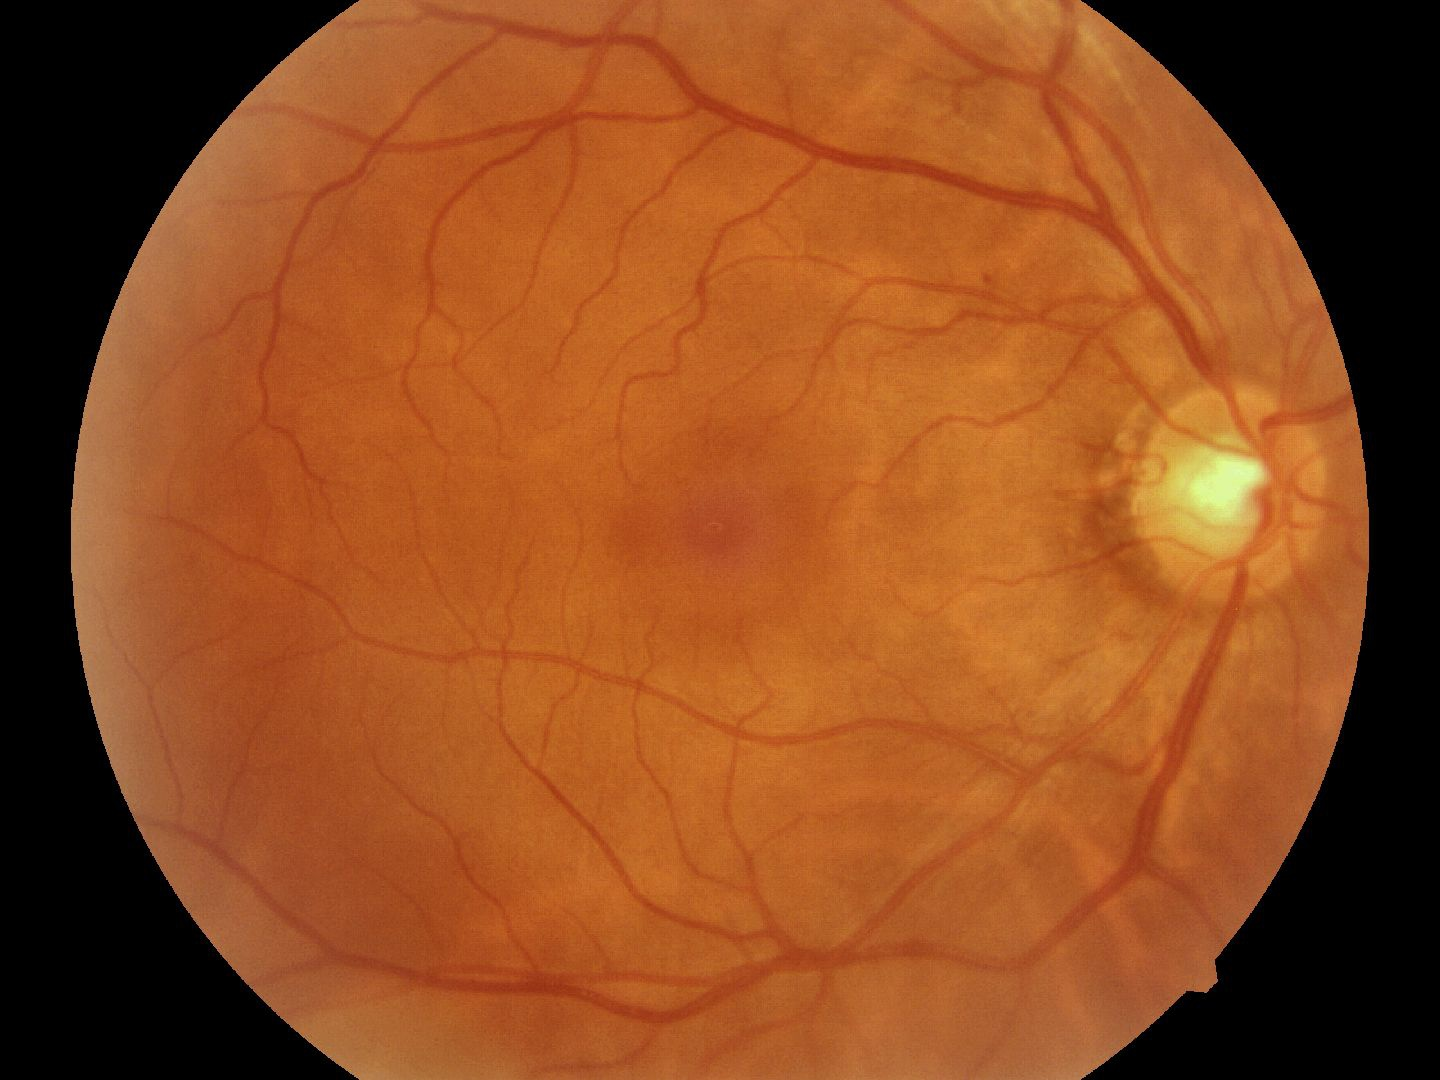Arterioles: (263, 225, 645, 495), (375, 587, 742, 838)
Optic-Disc: (1119, 351, 1336, 621)
Venules: (632, 36, 1085, 208), (1134, 626, 1214, 879)
